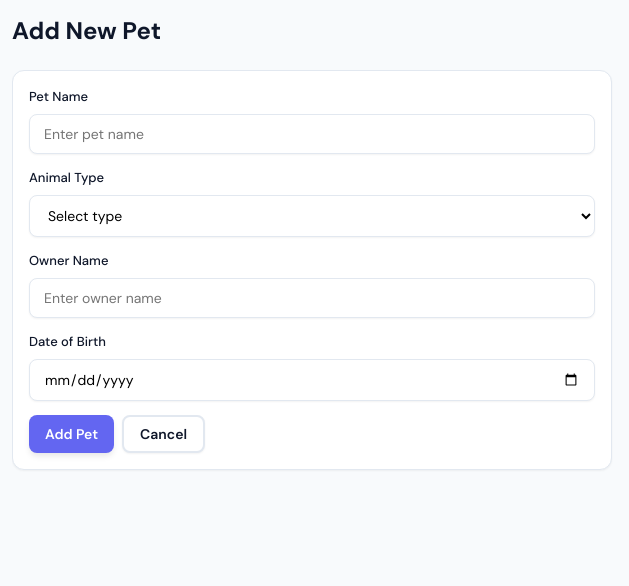
Test: PetForm - Validation › should display validation errors for empty form
The width and height of the screenshot is (629, 586).
Click the button "Add Pet": (72, 434) [29,415,114,453]
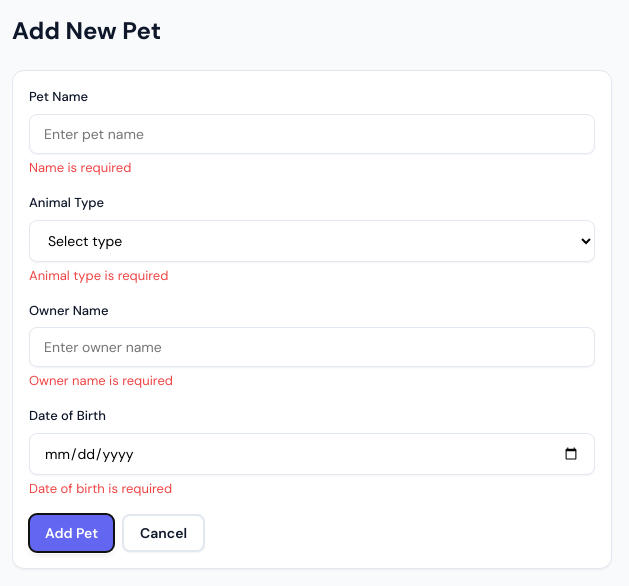
Now the text "Name is required" is shown, box [29,159,131,176]
Now the text "Animal type is required" is shown, box [29,267,168,284]
Now the text "Owner name is required" is shown, box [29,372,173,390]
